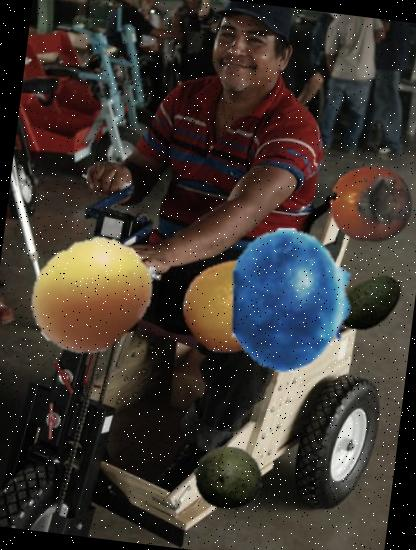Avocado: (330, 264, 410, 344), (190, 440, 266, 517)
Cherry: (21, 226, 160, 365)
Huckleberry: (210, 220, 370, 380)
Kaki: (323, 157, 416, 252)
Lemon: (176, 246, 294, 364)
